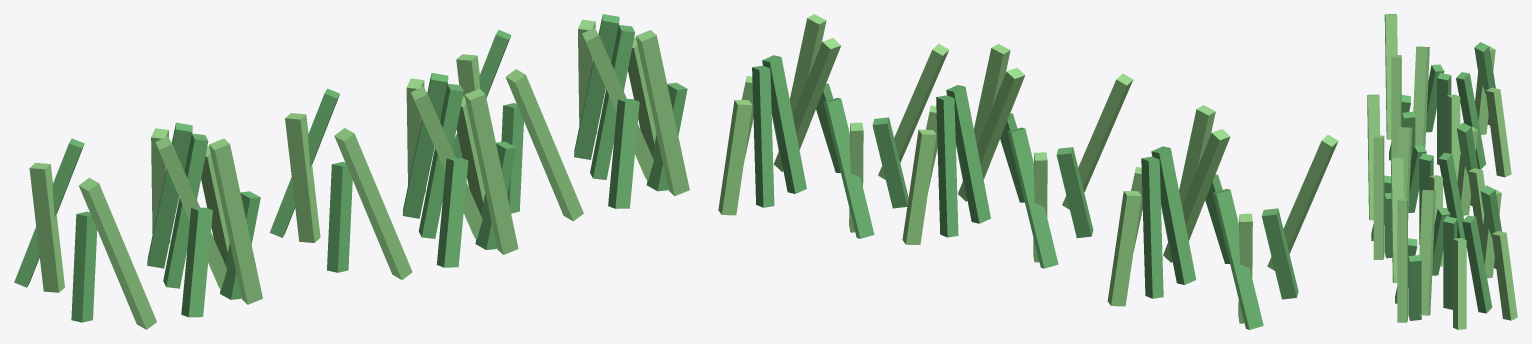
File: grass_clumps.glb
The picture shows the model from 3 angles, left to right: view 1: azimuth 30°, elevation 25°; view 2: azimuth 150°, elevation 25°; view 3: azimuth 270°, elevation 25°; orthographic projection. The views are drawn at different scales.
Visible parts, largest first — view 1: grass_clumps; view 2: grass_clumps; view 3: grass_clumps.
Boxes of the visible parts, x1,y1,x2,y2 form: grass_clumps: [14, 14, 689, 329]; grass_clumps: [718, 14, 1338, 329]; grass_clumps: [1367, 14, 1517, 329].
Size of the model in its own units: 2.35 by 0.593 by 0.7107.
